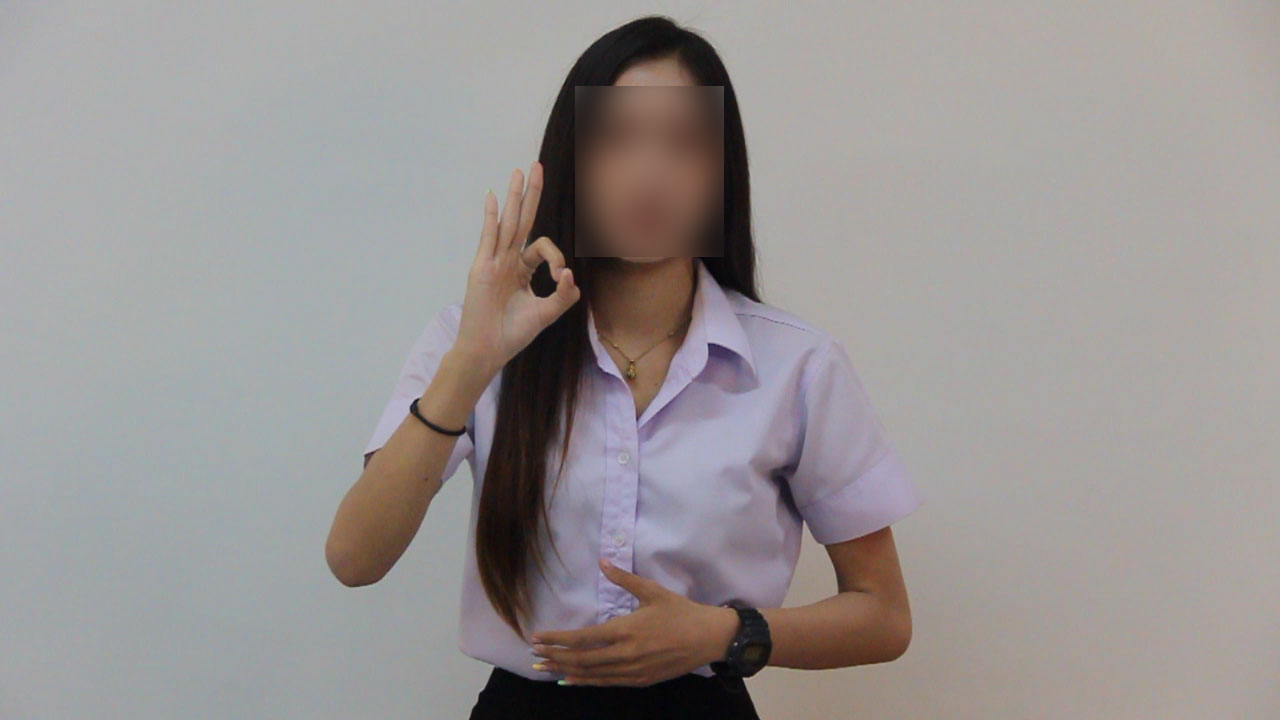for: (423, 149, 603, 371)
